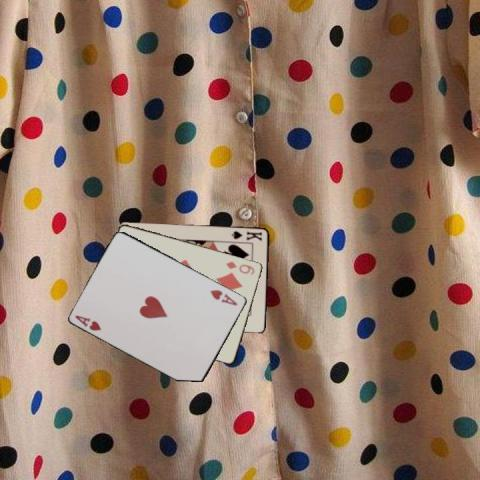6d: (223, 258, 256, 276)
Ah: (207, 286, 239, 306), (72, 312, 103, 332)
Ks: (229, 228, 263, 243)
